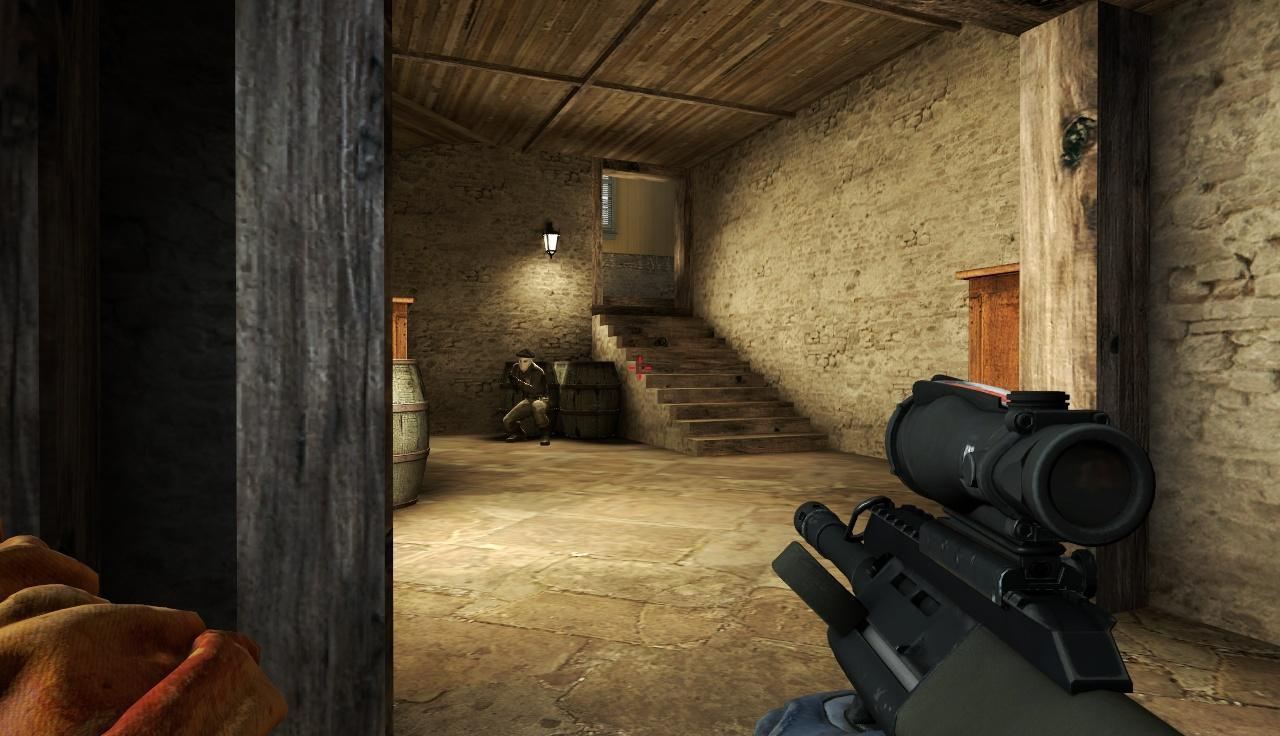rifle: (786, 374, 1181, 736)
tt: (511, 350, 547, 443)
tthead: (518, 352, 532, 371)
